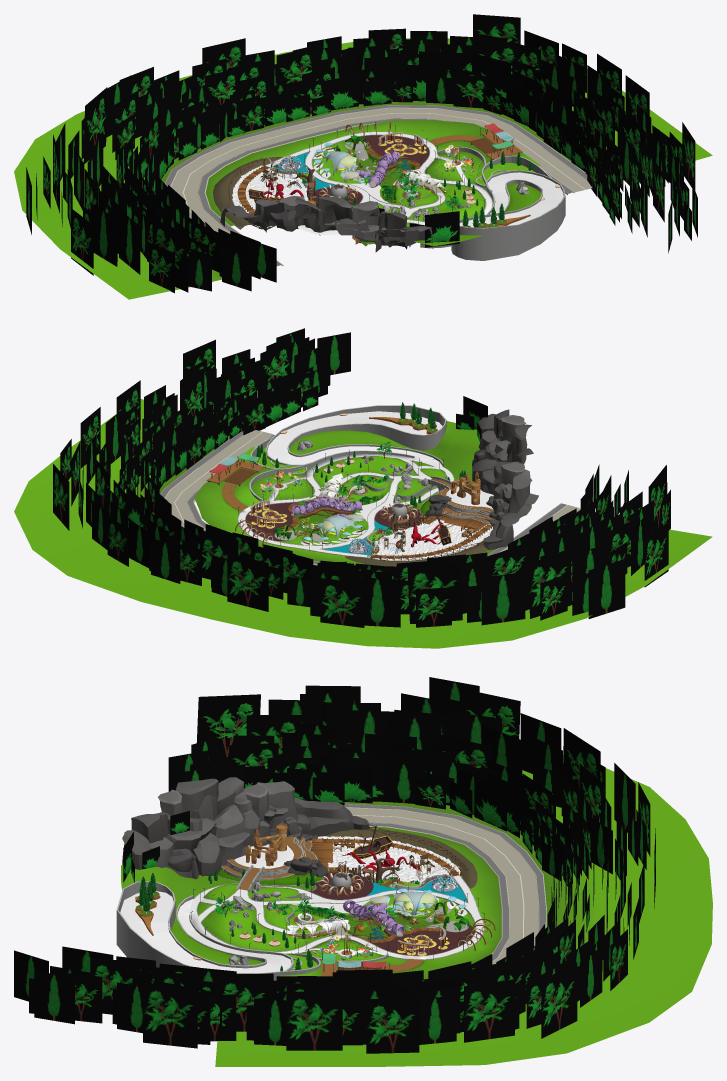
The model's file is Childhood.v2.fbx.
3 renders of one model, top to bottom at view 1: azimuth 30°, elevation 25°; view 2: azimuth 150°, elevation 25°; view 3: azimuth 270°, elevation 25°, orthographic. The views are drawn at different scales.
Visible parts, largest first — view 1: Border.Road.v1.1, Border.Tree.v1.4, Border.Tree.v1.5, Border.Tree.v1.1, Border.Tree.v1.6, Border.Tree.v1.3, Border.Tree.v1.7, Border.Tree.v1.2, Spiral.Wall.v1.1_LOD0, Border.Land.v1.1, Ravine.UplandLand.v1.1, Road.v1.1 (+17 smaller); view 2: Border.Road.v1.1, Border.Tree.v1.3, Border.Tree.v1.4, Border.Tree.v1.7, Border.Tree.v1.6, Border.Tree.v1.2, Border.Tree.v1.5, Border.Tree.v1.1, Spiral.Wall.v1.1_LOD0, Ravine.UplandLand.v1.1, Spiral.Land.v1.1, Road.v2.1 (+20 smaller); view 3: Border.Road.v1.1, Border.Tree.v1.6, Border.Tree.v1.2, Border.Tree.v1.3, Border.Tree.v1.7, Border.Tree.v1.1, Border.Tree.v1.5, Border.Tree.v1.4, Ravine.UplandLand.v1.1, Border.Land.v1.1, Road.v2.1, Spiral.Wall.v1.1_LOD0 (+26 smaller).
Part boxes in pixels (box(x1,y1,x2,y2)): Border.Road.v1.1: box(14, 38, 712, 299); Border.Tree.v1.4: box(147, 36, 390, 141); Border.Tree.v1.5: box(356, 14, 558, 119); Border.Tree.v1.1: box(71, 199, 276, 293); Border.Tree.v1.6: box(514, 43, 651, 171); Border.Tree.v1.3: box(56, 67, 219, 193); Border.Tree.v1.7: box(585, 122, 697, 253); Border.Tree.v1.2: box(26, 134, 189, 253); Spiral.Wall.v1.1_LOD0: box(420, 147, 565, 260); Border.Land.v1.1: box(206, 120, 540, 226); Ravine.UplandLand.v1.1: box(312, 140, 485, 226); Road.v1.1: box(266, 132, 492, 225); Border.Road.v1.1: box(14, 399, 712, 648); Border.Tree.v1.3: box(320, 552, 525, 627); Border.Tree.v1.4: box(128, 519, 353, 616); Border.Tree.v1.7: box(180, 328, 350, 439); Border.Tree.v1.6: box(60, 373, 234, 492); Border.Tree.v1.2: box(488, 516, 627, 620); Border.Tree.v1.5: box(53, 441, 203, 566); Border.Tree.v1.1: box(553, 464, 670, 587); Spiral.Wall.v1.1_LOD0: box(249, 405, 446, 501); Ravine.UplandLand.v1.1: box(275, 456, 447, 545); Spiral.Land.v1.1: box(256, 421, 479, 508); Road.v2.1: box(267, 411, 442, 466); Border.Road.v1.1: box(215, 755, 712, 1066); Border.Tree.v1.6: box(218, 969, 460, 1053); Border.Tree.v1.2: box(326, 677, 522, 809); Border.Tree.v1.3: box(450, 713, 650, 870); Border.Tree.v1.7: box(14, 946, 236, 1048); Border.Tree.v1.1: box(168, 685, 361, 805); Border.Tree.v1.5: box(406, 918, 627, 1042); Border.Tree.v1.4: box(542, 808, 655, 981); Ravine.UplandLand.v1.1: box(197, 884, 475, 951); Border.Land.v1.1: box(280, 827, 501, 979); Road.v2.1: box(120, 891, 291, 973); Spiral.Wall.v1.1_LOD0: box(116, 881, 388, 980).
Size of what is drawn, in the model's own units: 30566 by 3456 by 26908.
5 materials, 3 textured.
